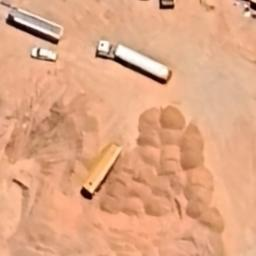sedan: (29, 44, 61, 62)
truck: (94, 36, 174, 82), (73, 136, 126, 202)
